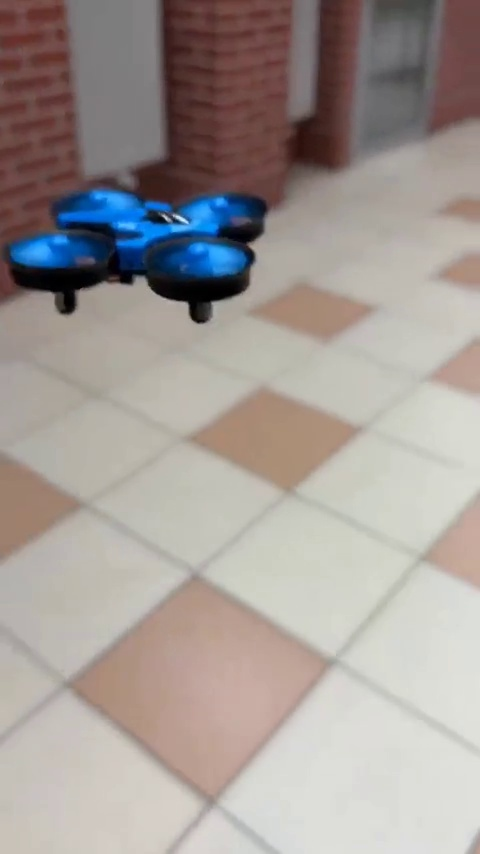drone: (18, 190, 264, 297)
